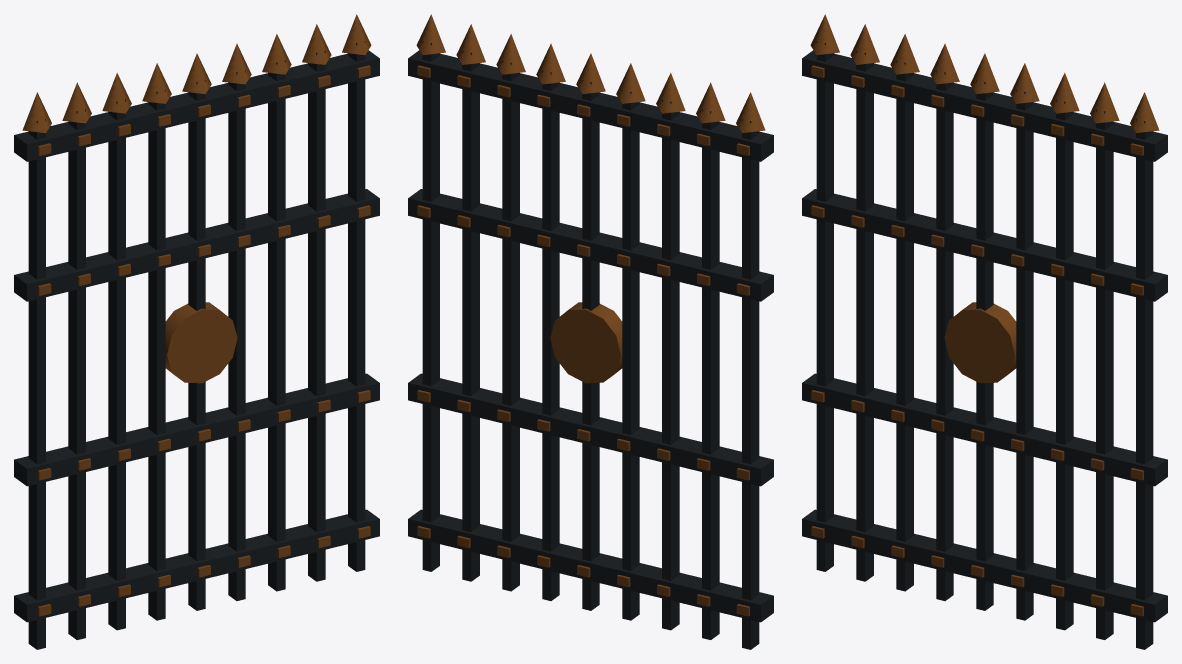
The model's file is iron_portcullis.glb.
3 views of the same model, side by side, from view 1: azimuth 30°, elevation 25°; view 2: azimuth 150°, elevation 25°; view 3: azimuth 330°, elevation 25° (orthographic).
Parts seen in each view (by area): view 1: IronPortcullis; view 2: IronPortcullis; view 3: IronPortcullis.
Boxes of the visible parts, x1,y1,x2,y2 form: IronPortcullis: (14, 14, 379, 649); IronPortcullis: (408, 14, 773, 649); IronPortcullis: (802, 14, 1167, 649).
Size of the model in its own units: 1.9 by 2.85 by 0.16.
